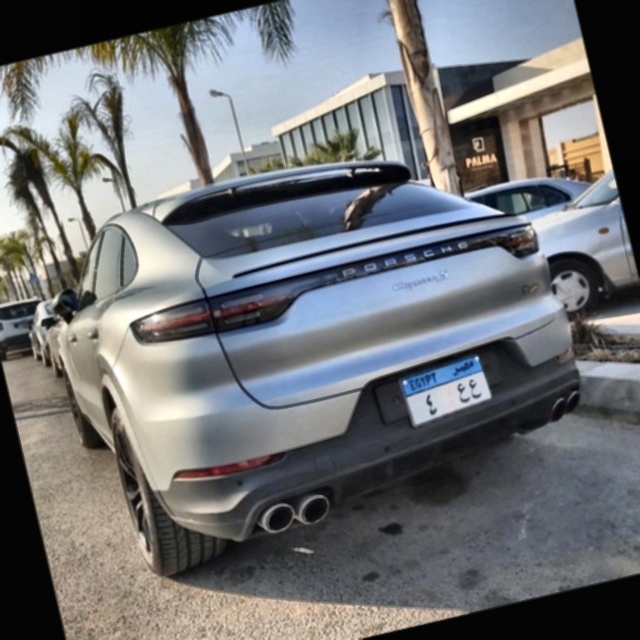License Plate: (396, 351, 496, 429)
